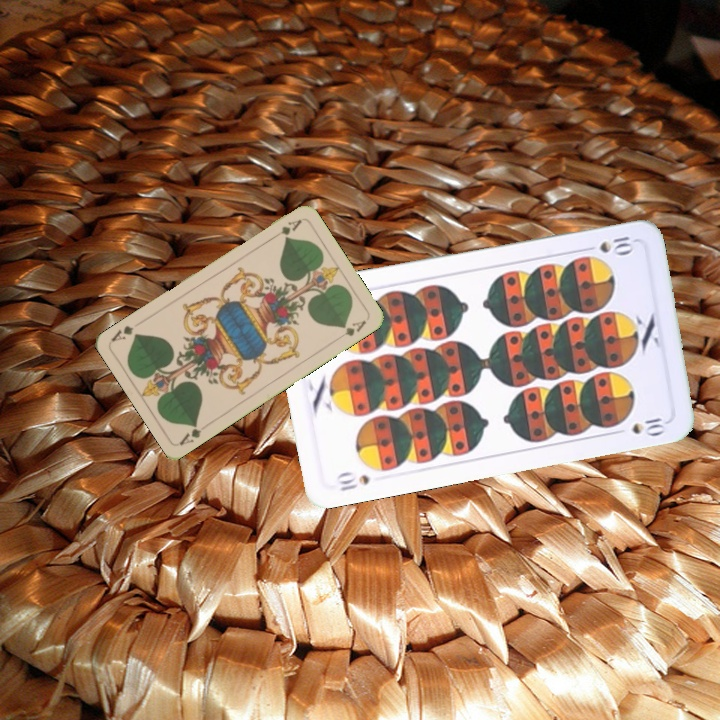GA: (267, 215, 304, 242), (176, 419, 204, 448)
S10: (579, 232, 637, 256), (332, 468, 372, 494)
